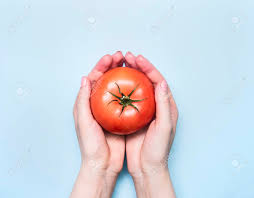tomato: (90, 67, 157, 134)
